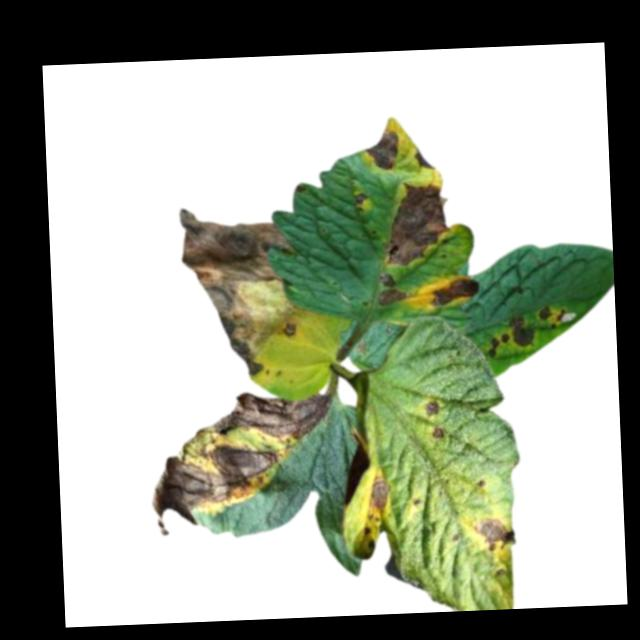Early_blight: (177, 202, 302, 382), (147, 443, 290, 536), (194, 387, 334, 448), (377, 179, 450, 267), (429, 274, 479, 313), (361, 129, 403, 173), (473, 514, 515, 557), (366, 475, 396, 515), (374, 271, 407, 306), (510, 314, 536, 350), (537, 303, 567, 329), (413, 146, 437, 174), (487, 333, 510, 362), (353, 188, 371, 212), (428, 424, 448, 442), (423, 399, 438, 420)
